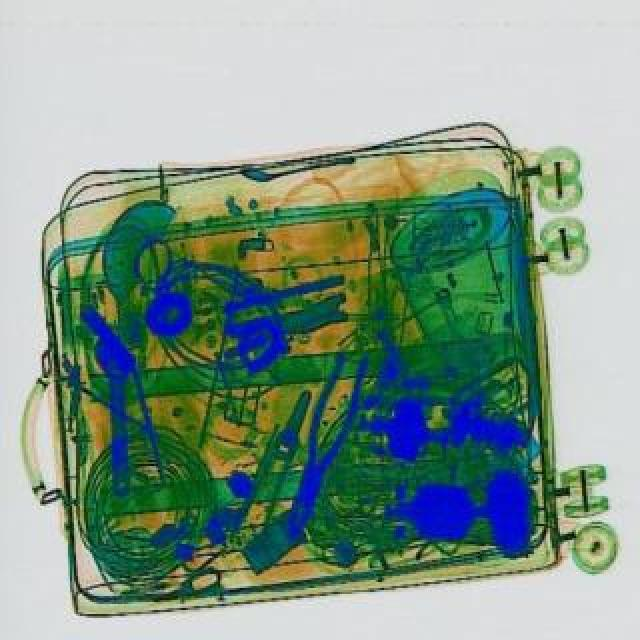scissors: (90, 332, 140, 494)
wrench: (270, 346, 374, 538), (230, 382, 322, 540)
